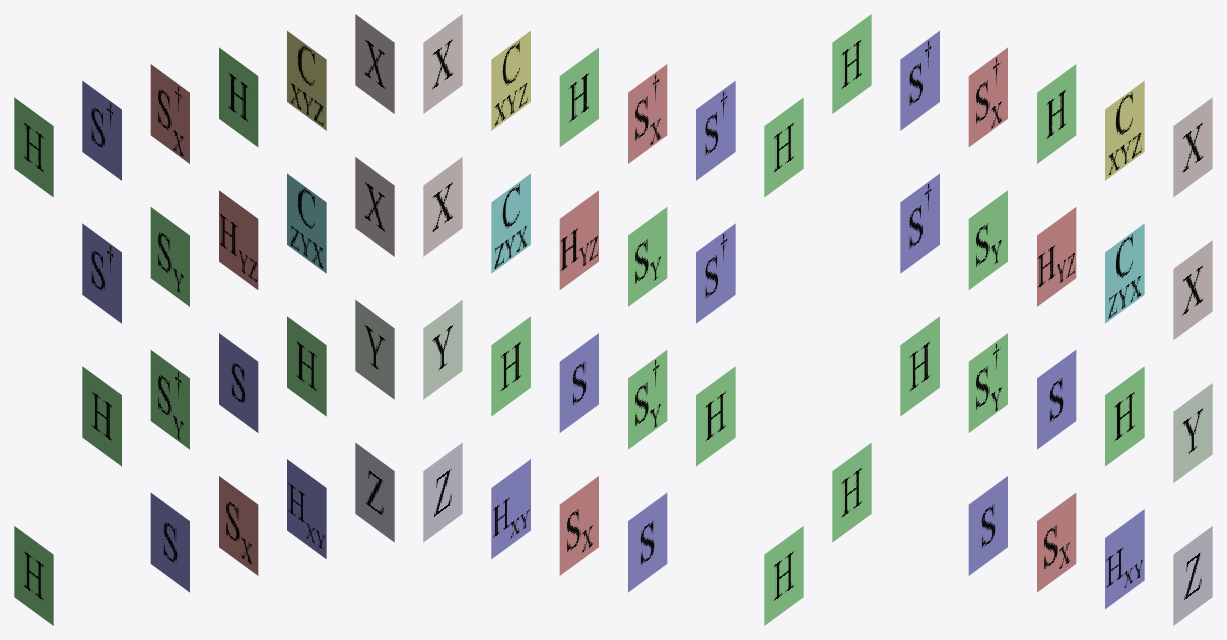
File: single_qubits_gates.gltf
3 views of the same model, side by side, from view 1: azimuth 30°, elevation 25°; view 2: azimuth 150°, elevation 25°; view 3: azimuth 330°, elevation 25° (orthographic).
Size of the model in its own units: 5 by 7 by 1.
1 material, 1 textured.
